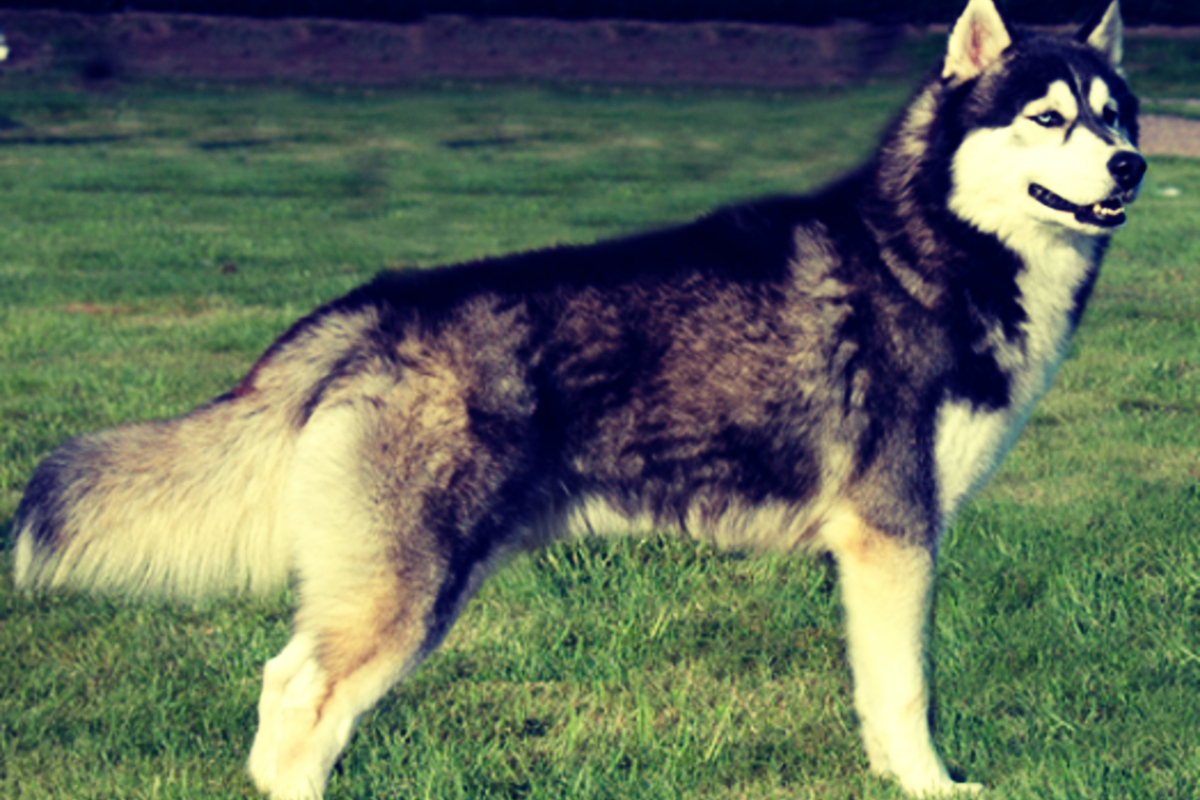husky: (42, 13, 1145, 795)
